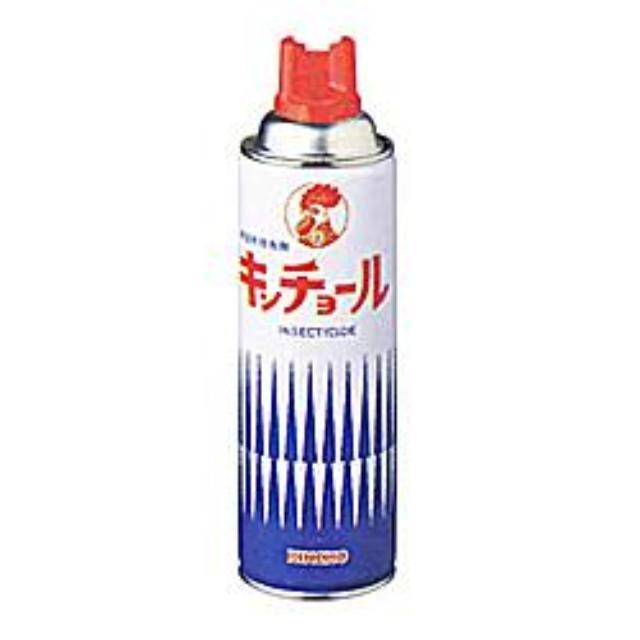chemical_spray_can: (241, 36, 397, 598)
